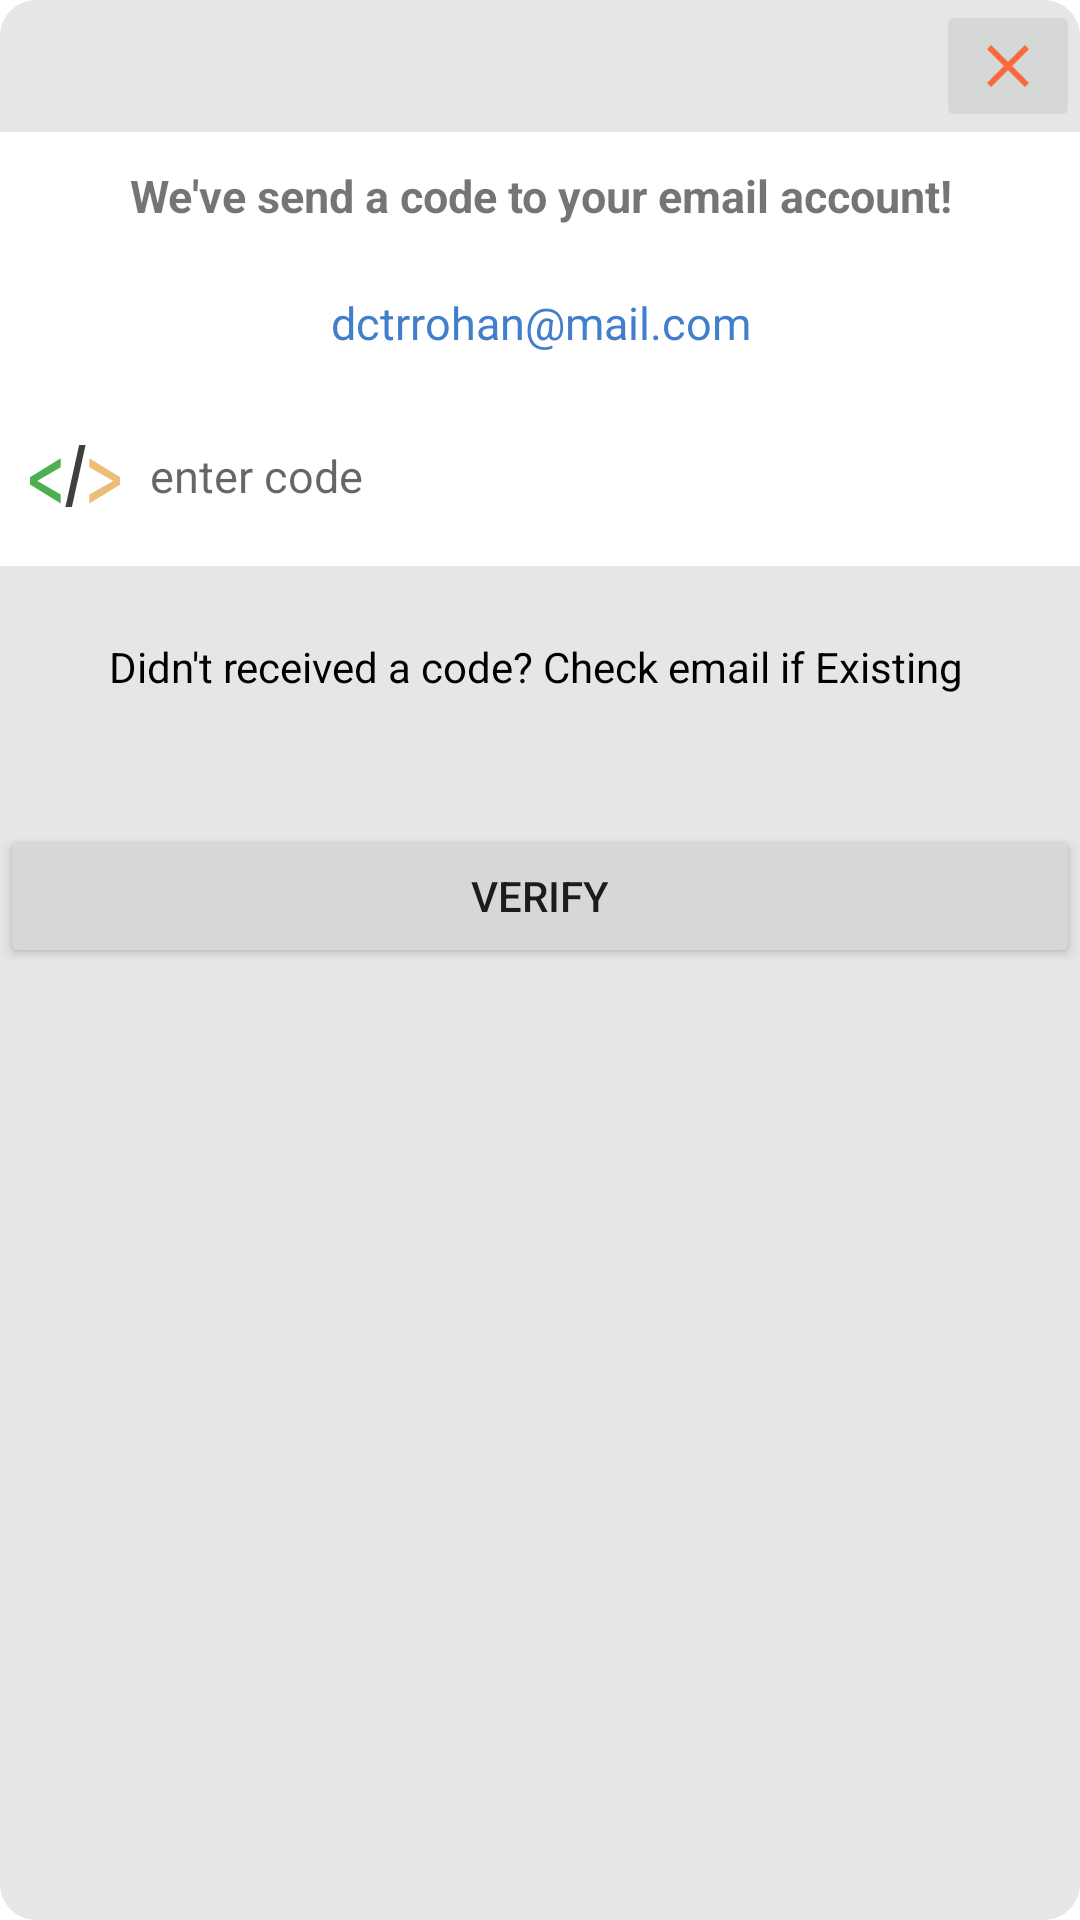

Where to tap for icons on this 1080px x 1920px app screen, as [x,y]:
close: [1008,66]
